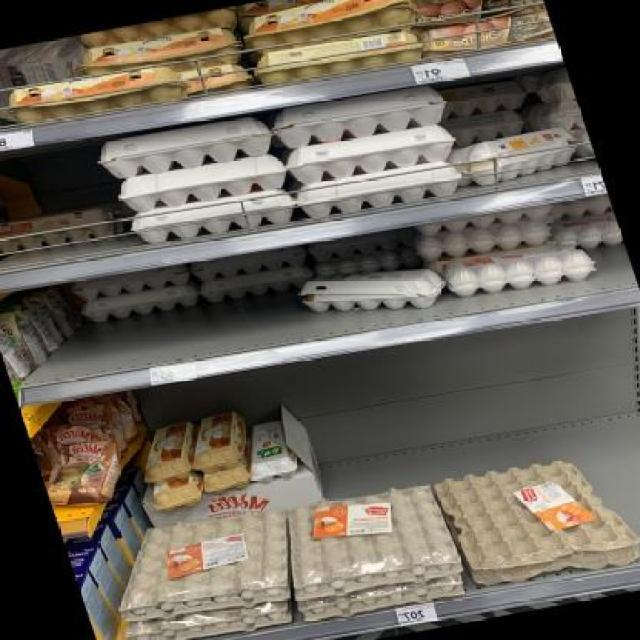Egg: (1, 56, 200, 132), (65, 22, 246, 90), (237, 0, 423, 57), (0, 197, 131, 261), (34, 435, 136, 513), (417, 8, 556, 61), (178, 408, 259, 475), (131, 417, 209, 486), (59, 395, 136, 461), (405, 1, 541, 34), (237, 419, 301, 485), (0, 304, 52, 380), (178, 60, 252, 98), (145, 476, 209, 513), (384, 0, 538, 12), (202, 467, 253, 495)
